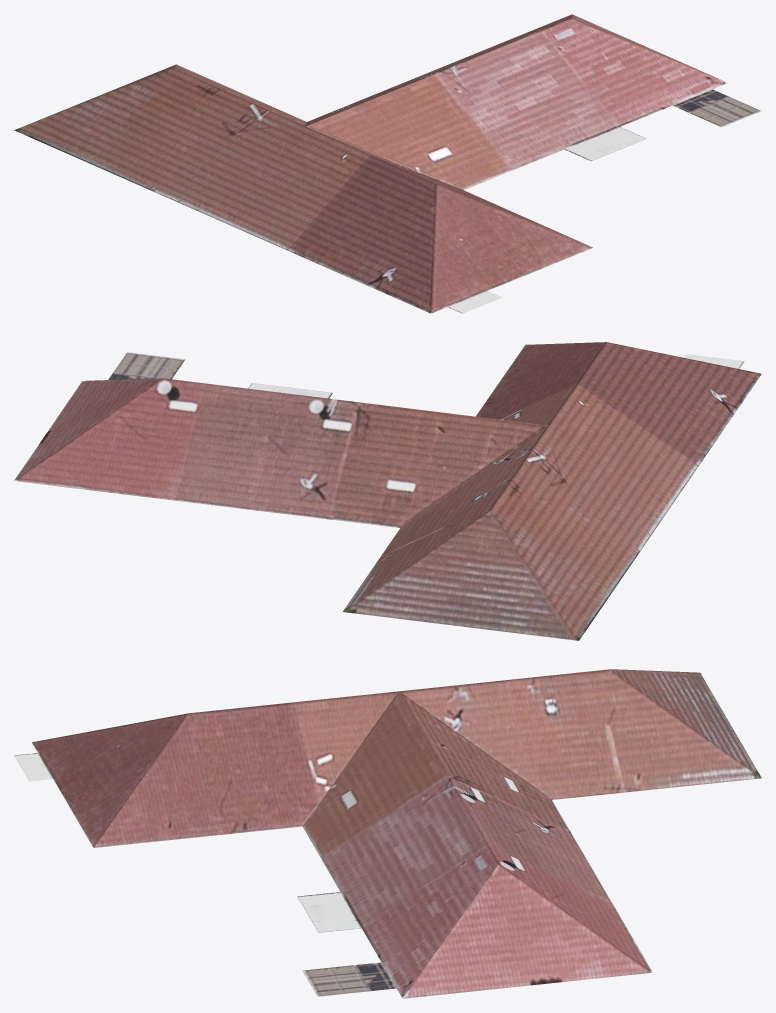
Rendered from BK39_500_015027_0054_roof.obj.
The picture shows the model from 3 angles, top to bottom: view 1: azimuth 30°, elevation 25°; view 2: azimuth 150°, elevation 25°; view 3: azimuth 270°, elevation 25°; orthographic projection. The views are drawn at different scales.
Parts seen in each view (by area): view 1: BK39_500_015027_0054_roof; view 2: BK39_500_015027_0054_roof; view 3: BK39_500_015027_0054_roof.
Boxes of the visible parts, bbox=[...] form: BK39_500_015027_0054_roof: bbox=[14, 14, 761, 313]; BK39_500_015027_0054_roof: bbox=[14, 342, 761, 640]; BK39_500_015027_0054_roof: bbox=[14, 669, 761, 998].
Size of the model in its own units: 696 by 70 by 674.
Materials: 1 (1 with a texture image).
